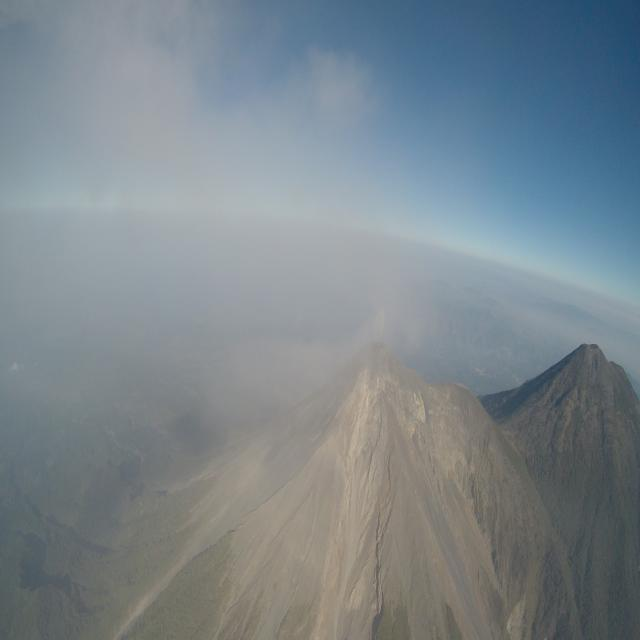Plume: (0, 1, 236, 222), (369, 304, 387, 346)
Summit: (304, 346, 434, 424)
